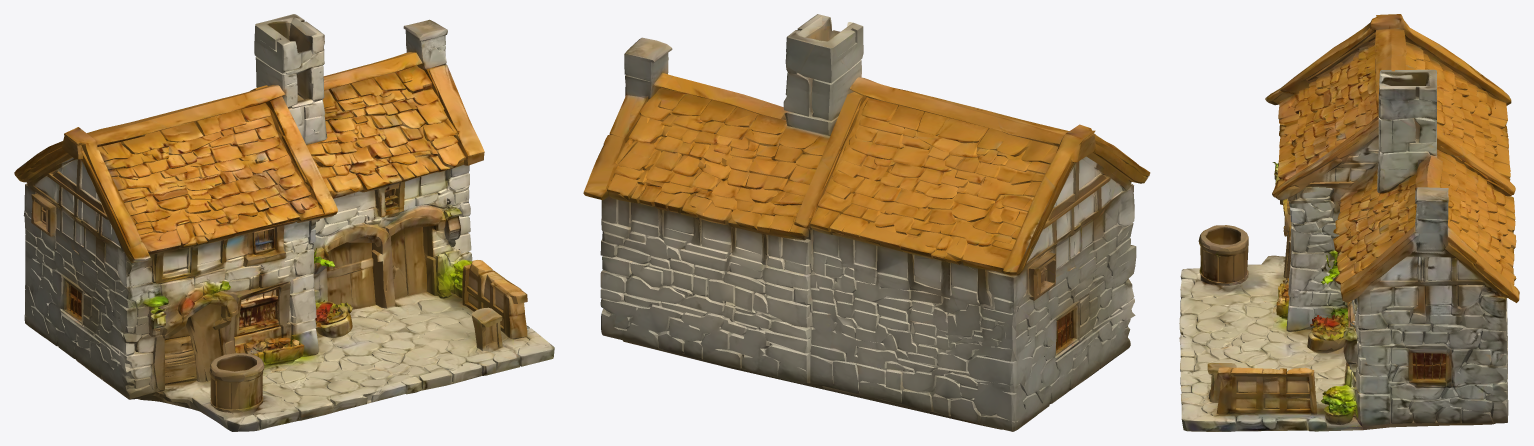
3 renders of one model, left to right at view 1: azimuth 30°, elevation 25°; view 2: azimuth 150°, elevation 25°; view 3: azimuth 270°, elevation 25°, orthographic. The views are drawn at different scales.
Parts seen in each view (by area): view 1: model; view 2: model; view 3: model.
Boxes of the visible parts, x1,y1,x2,y2 form: model: (14,14,554,431); model: (583,14,1150,431); model: (1179,14,1519,431).
Bounding box in the file's own units: 1.91 × 1.32 × 1.45.
Materials: 1 (1 with a texture image).
